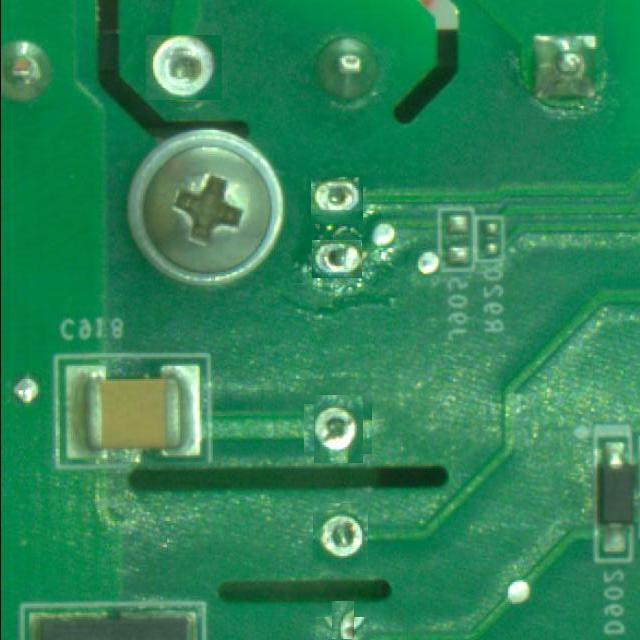lack_of_part: (145, 34, 222, 100), (314, 503, 369, 569), (308, 399, 368, 458), (311, 177, 363, 224), (312, 240, 362, 278), (323, 609, 362, 640)
